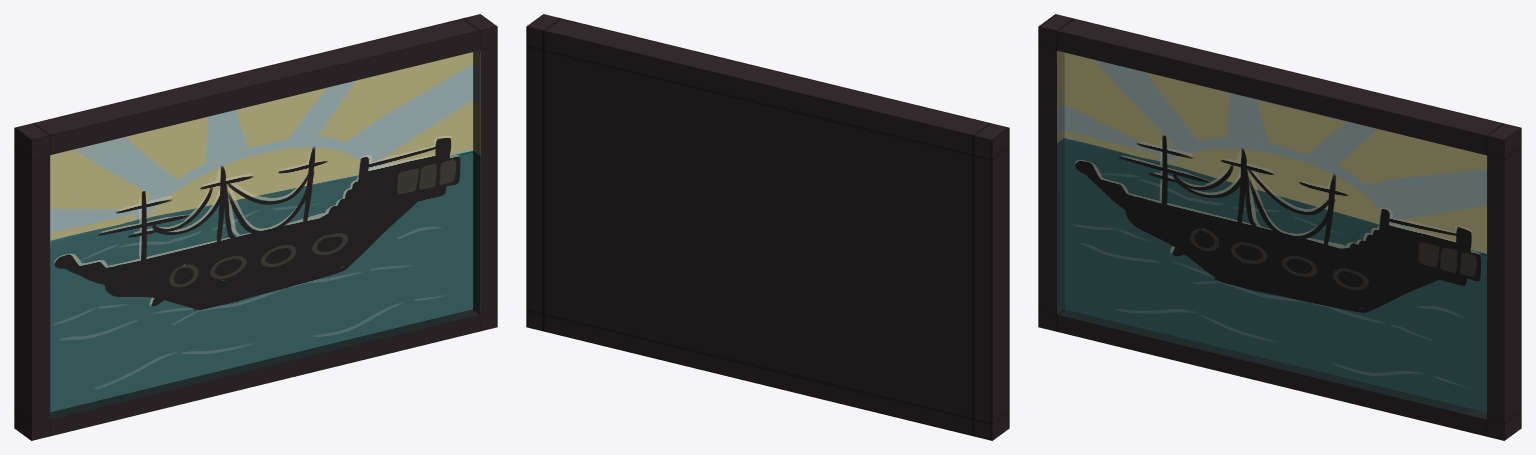
Rendered from painting5.fbx.
The picture shows the model from 3 angles, left to right: view 1: azimuth 30°, elevation 25°; view 2: azimuth 150°, elevation 25°; view 3: azimuth 330°, elevation 25°; orthographic projection.
Visible parts, largest first — view 1: pCube163; view 2: pCube163; view 3: pCube163.
Boxes of the visible parts, box(x1,y1,x2,y2) form: pCube163: box(14, 14, 497, 440); pCube163: box(526, 14, 1009, 440); pCube163: box(1038, 14, 1521, 440).
Bounding box in the file's own units: 211 × 130 × 13.48.
